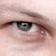eye: (17, 22, 31, 31)
